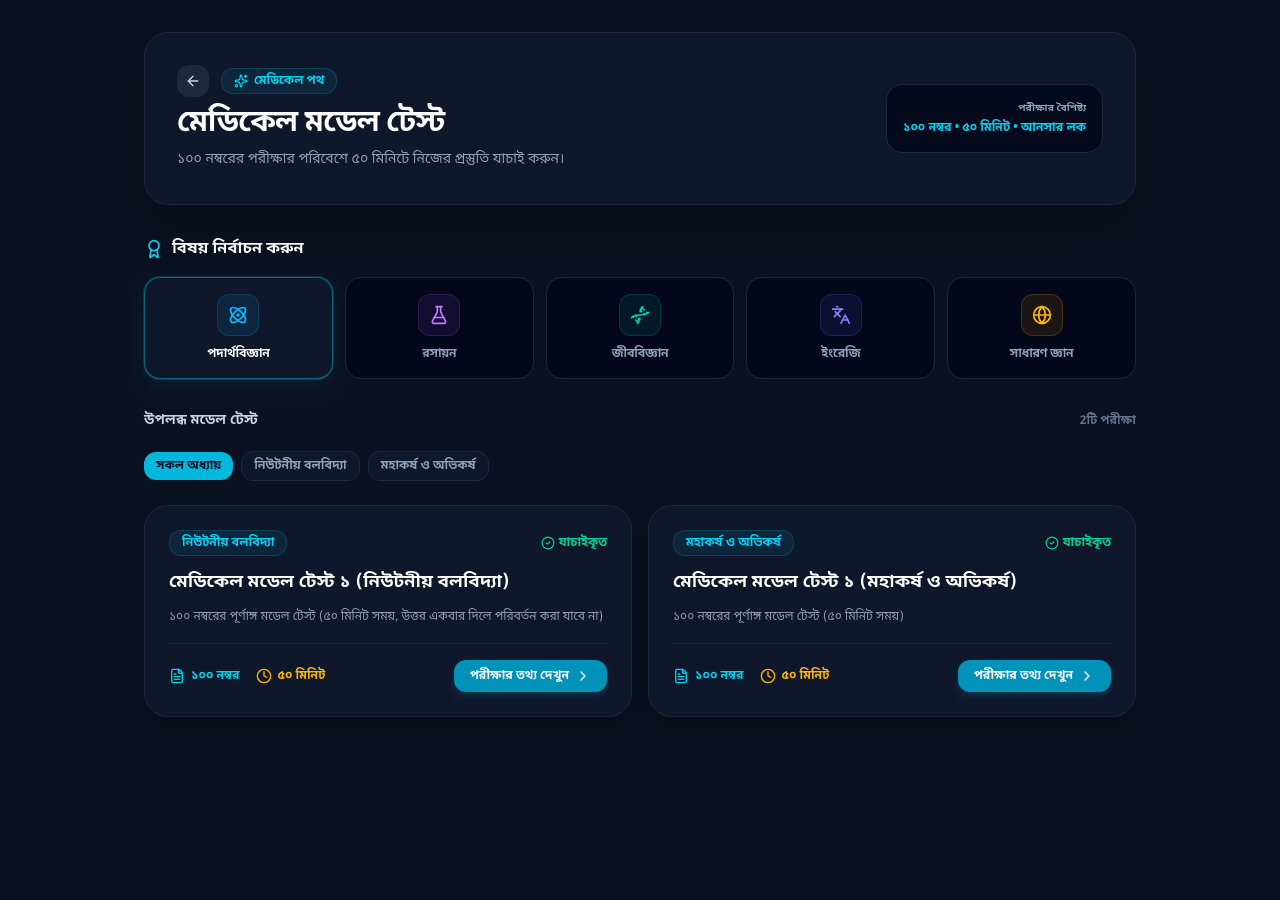
Medical Model Test Requirements & Safeguards › 2. Clicking "পরীক্ষার তথ্য দেখুন" opens Pre-Exam Confirmation screen with 100 marks and 50 min info
Click the button "পরীক্ষার তথ্য দেখুন" below "মেডিকেল মডেল টেস্ট ১ (নিউটনীয় বলবিদ্যা)" at (530, 676), box [454,660,607,692]
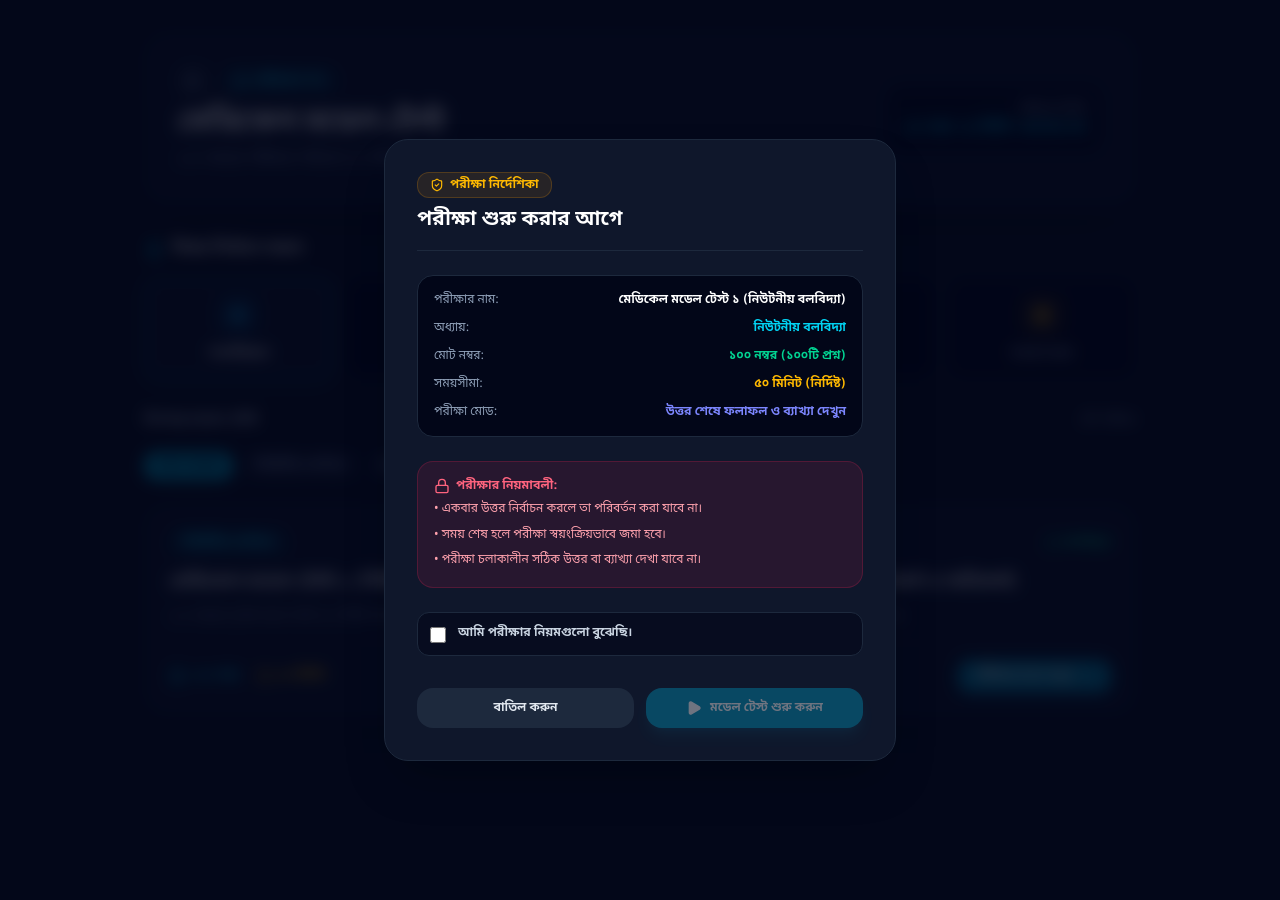
Result: the heading "পরীক্ষা শুরু করার আগে" is shown at [417,207,622,233]
Result: the text "১০০ নম্বর (১০০টি প্রশ্ন)" is shown at [729,348,846,364]
Result: the text "৫০ মিনিট (নির্দিষ্ট)" is shown at [754,376,846,392]
